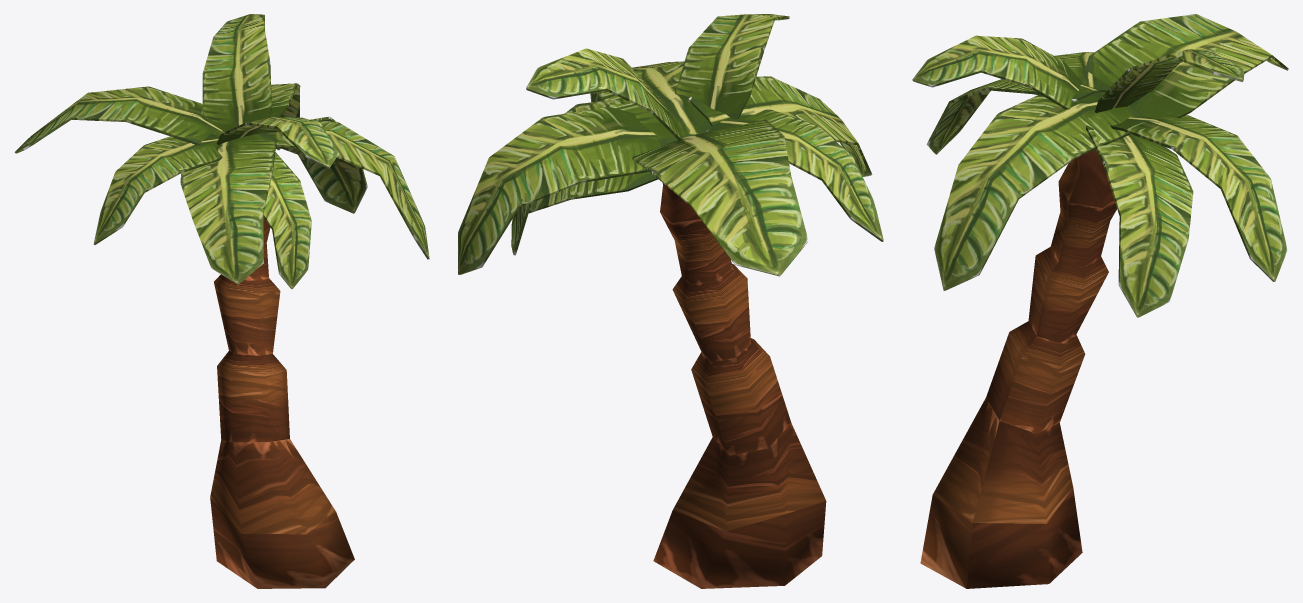
File: Orc_Palm.FBX
3 renders of one model, left to right at view 1: azimuth 30°, elevation 25°; view 2: azimuth 150°, elevation 25°; view 3: azimuth 270°, elevation 25°, orthographic. The views are drawn at different scales.
Visible parts, largest first — view 1: Object004; view 2: Object004; view 3: Object004.
Part boxes in pixels (x1,y1,x2,y2): Object004: (14, 14, 429, 588); Object004: (458, 14, 883, 588); Object004: (912, 14, 1288, 588).
Size of the model in its own units: 1833 by 2795 by 1781.
